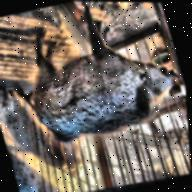boar: (3, 0, 190, 164)
